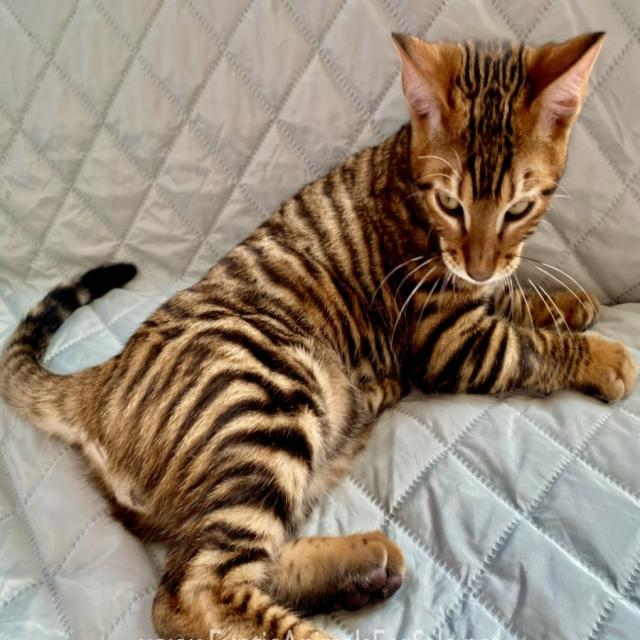Toyger: (0, 23, 639, 640)
